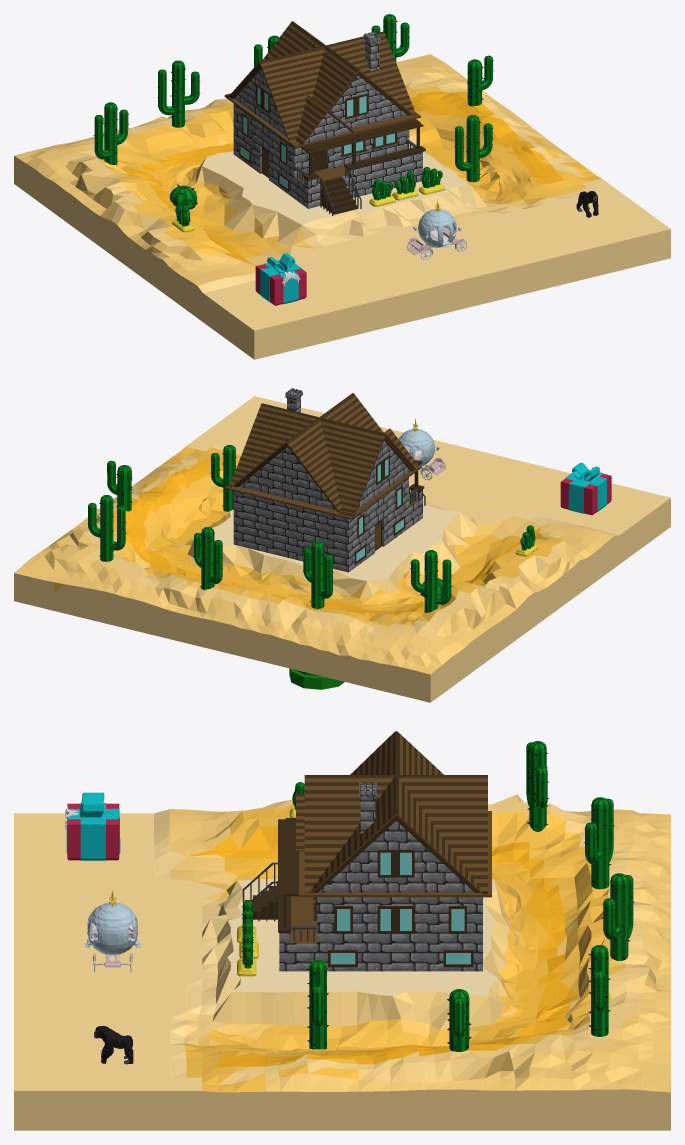
The picture shows the model from 3 angles, top to bottom: view 1: azimuth 30°, elevation 25°; view 2: azimuth 150°, elevation 25°; view 3: azimuth 270°, elevation 25°; orthographic projection. The views are drawn at different scales.
Visible parts, largest first — view 1: Cube.001, Cube.586, OBJRANDOM_GIANT_PRESENT, VEHICLES_FANTASY_CARRIAGE, Cylinder.037, Cylinder.044, Cylinder.045, Cylinder.038, Cylinder.042, Cylinder.039, Cylinder.041, Sphere.023 (+1 smaller); view 2: Cube.001, Cube.586, OBJRANDOM_GIANT_PRESENT, Cylinder.042, Cylinder.045, Cylinder.044, Cylinder.043, VEHICLES_FANTASY_CARRIAGE, Cylinder.037, Cylinder.038, UNDERGROUND_PIPES; view 3: Cube.001, Cube.586, OBJRANDOM_GIANT_PRESENT, VEHICLES_FANTASY_CARRIAGE, Cylinder.043, Cylinder.044, Cylinder.045, Cylinder.042, Cylinder.037, Cylinder.038, ANIMAL_GORILA, Cylinder.041.
Part boxes in pixels (bbox=[...]): Cube.001: bbox=[14, 54, 670, 359]; Cube.586: bbox=[224, 21, 425, 215]; OBJRANDOM_GIANT_PRESENT: bbox=[255, 253, 306, 305]; VEHICLES_FANTASY_CARRIAGE: bbox=[406, 199, 467, 260]; Cylinder.037: bbox=[454, 115, 493, 182]; Cylinder.044: bbox=[157, 60, 200, 127]; Cylinder.045: bbox=[93, 102, 129, 164]; Cylinder.038: bbox=[467, 55, 493, 106]; Cylinder.042: bbox=[371, 14, 409, 62]; Cylinder.039: bbox=[369, 179, 395, 206]; Cylinder.041: bbox=[418, 167, 445, 194]; Sphere.023: bbox=[169, 184, 197, 209]; Cube.001: bbox=[14, 396, 670, 702]; Cube.586: bbox=[225, 388, 425, 572]; OBJRANDOM_GIANT_PRESENT: bbox=[560, 462, 611, 515]; Cylinder.042: bbox=[88, 495, 126, 561]; Cylinder.045: bbox=[410, 550, 452, 612]; Cylinder.044: bbox=[303, 541, 333, 608]; Cylinder.043: bbox=[193, 527, 222, 589]; VEHICLES_FANTASY_CARRIAGE: bbox=[398, 419, 446, 480]; Cylinder.037: bbox=[211, 445, 240, 511]; Cylinder.038: bbox=[107, 460, 132, 511]; UNDERGROUND_PIPES: bbox=[289, 668, 344, 689]; Cube.001: bbox=[14, 794, 670, 1130]; Cube.586: bbox=[242, 731, 491, 971]; OBJRANDOM_GIANT_PRESENT: bbox=[65, 792, 120, 860]; VEHICLES_FANTASY_CARRIAGE: bbox=[85, 890, 140, 972]; Cylinder.043: bbox=[602, 873, 634, 960]; Cylinder.044: bbox=[584, 797, 614, 889]; Cylinder.045: bbox=[526, 741, 548, 831]; Cylinder.042: bbox=[588, 945, 610, 1036]; Cylinder.037: bbox=[307, 959, 328, 1049]; Cylinder.038: bbox=[447, 989, 471, 1051]; ANIMAL_GORILA: bbox=[94, 1025, 133, 1064]; Cylinder.041: bbox=[237, 933, 256, 976].
Bounding box in the file's own units: 4002 × 2220 × 4001.
Materials: 23 (3 with a texture image).
